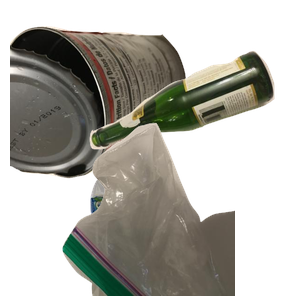glass: (87, 48, 300, 190)
metal: (10, 23, 193, 194)
plastic: (88, 158, 229, 300)
trash: (60, 120, 300, 300)
